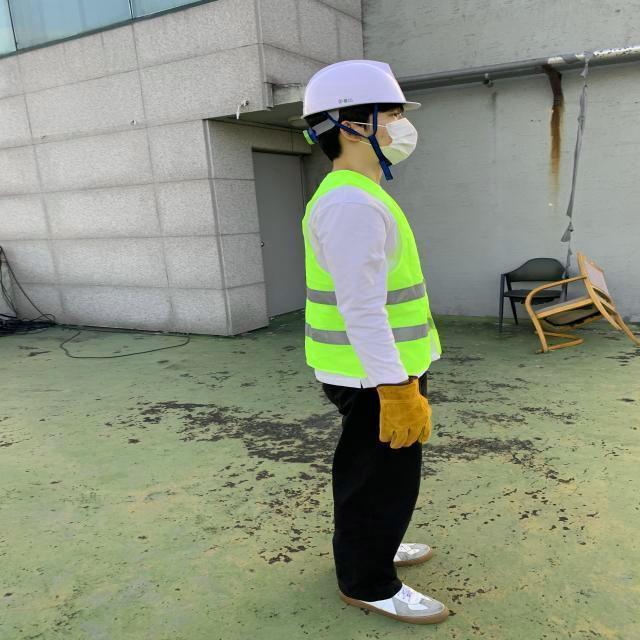vest: (303, 171, 442, 374)
